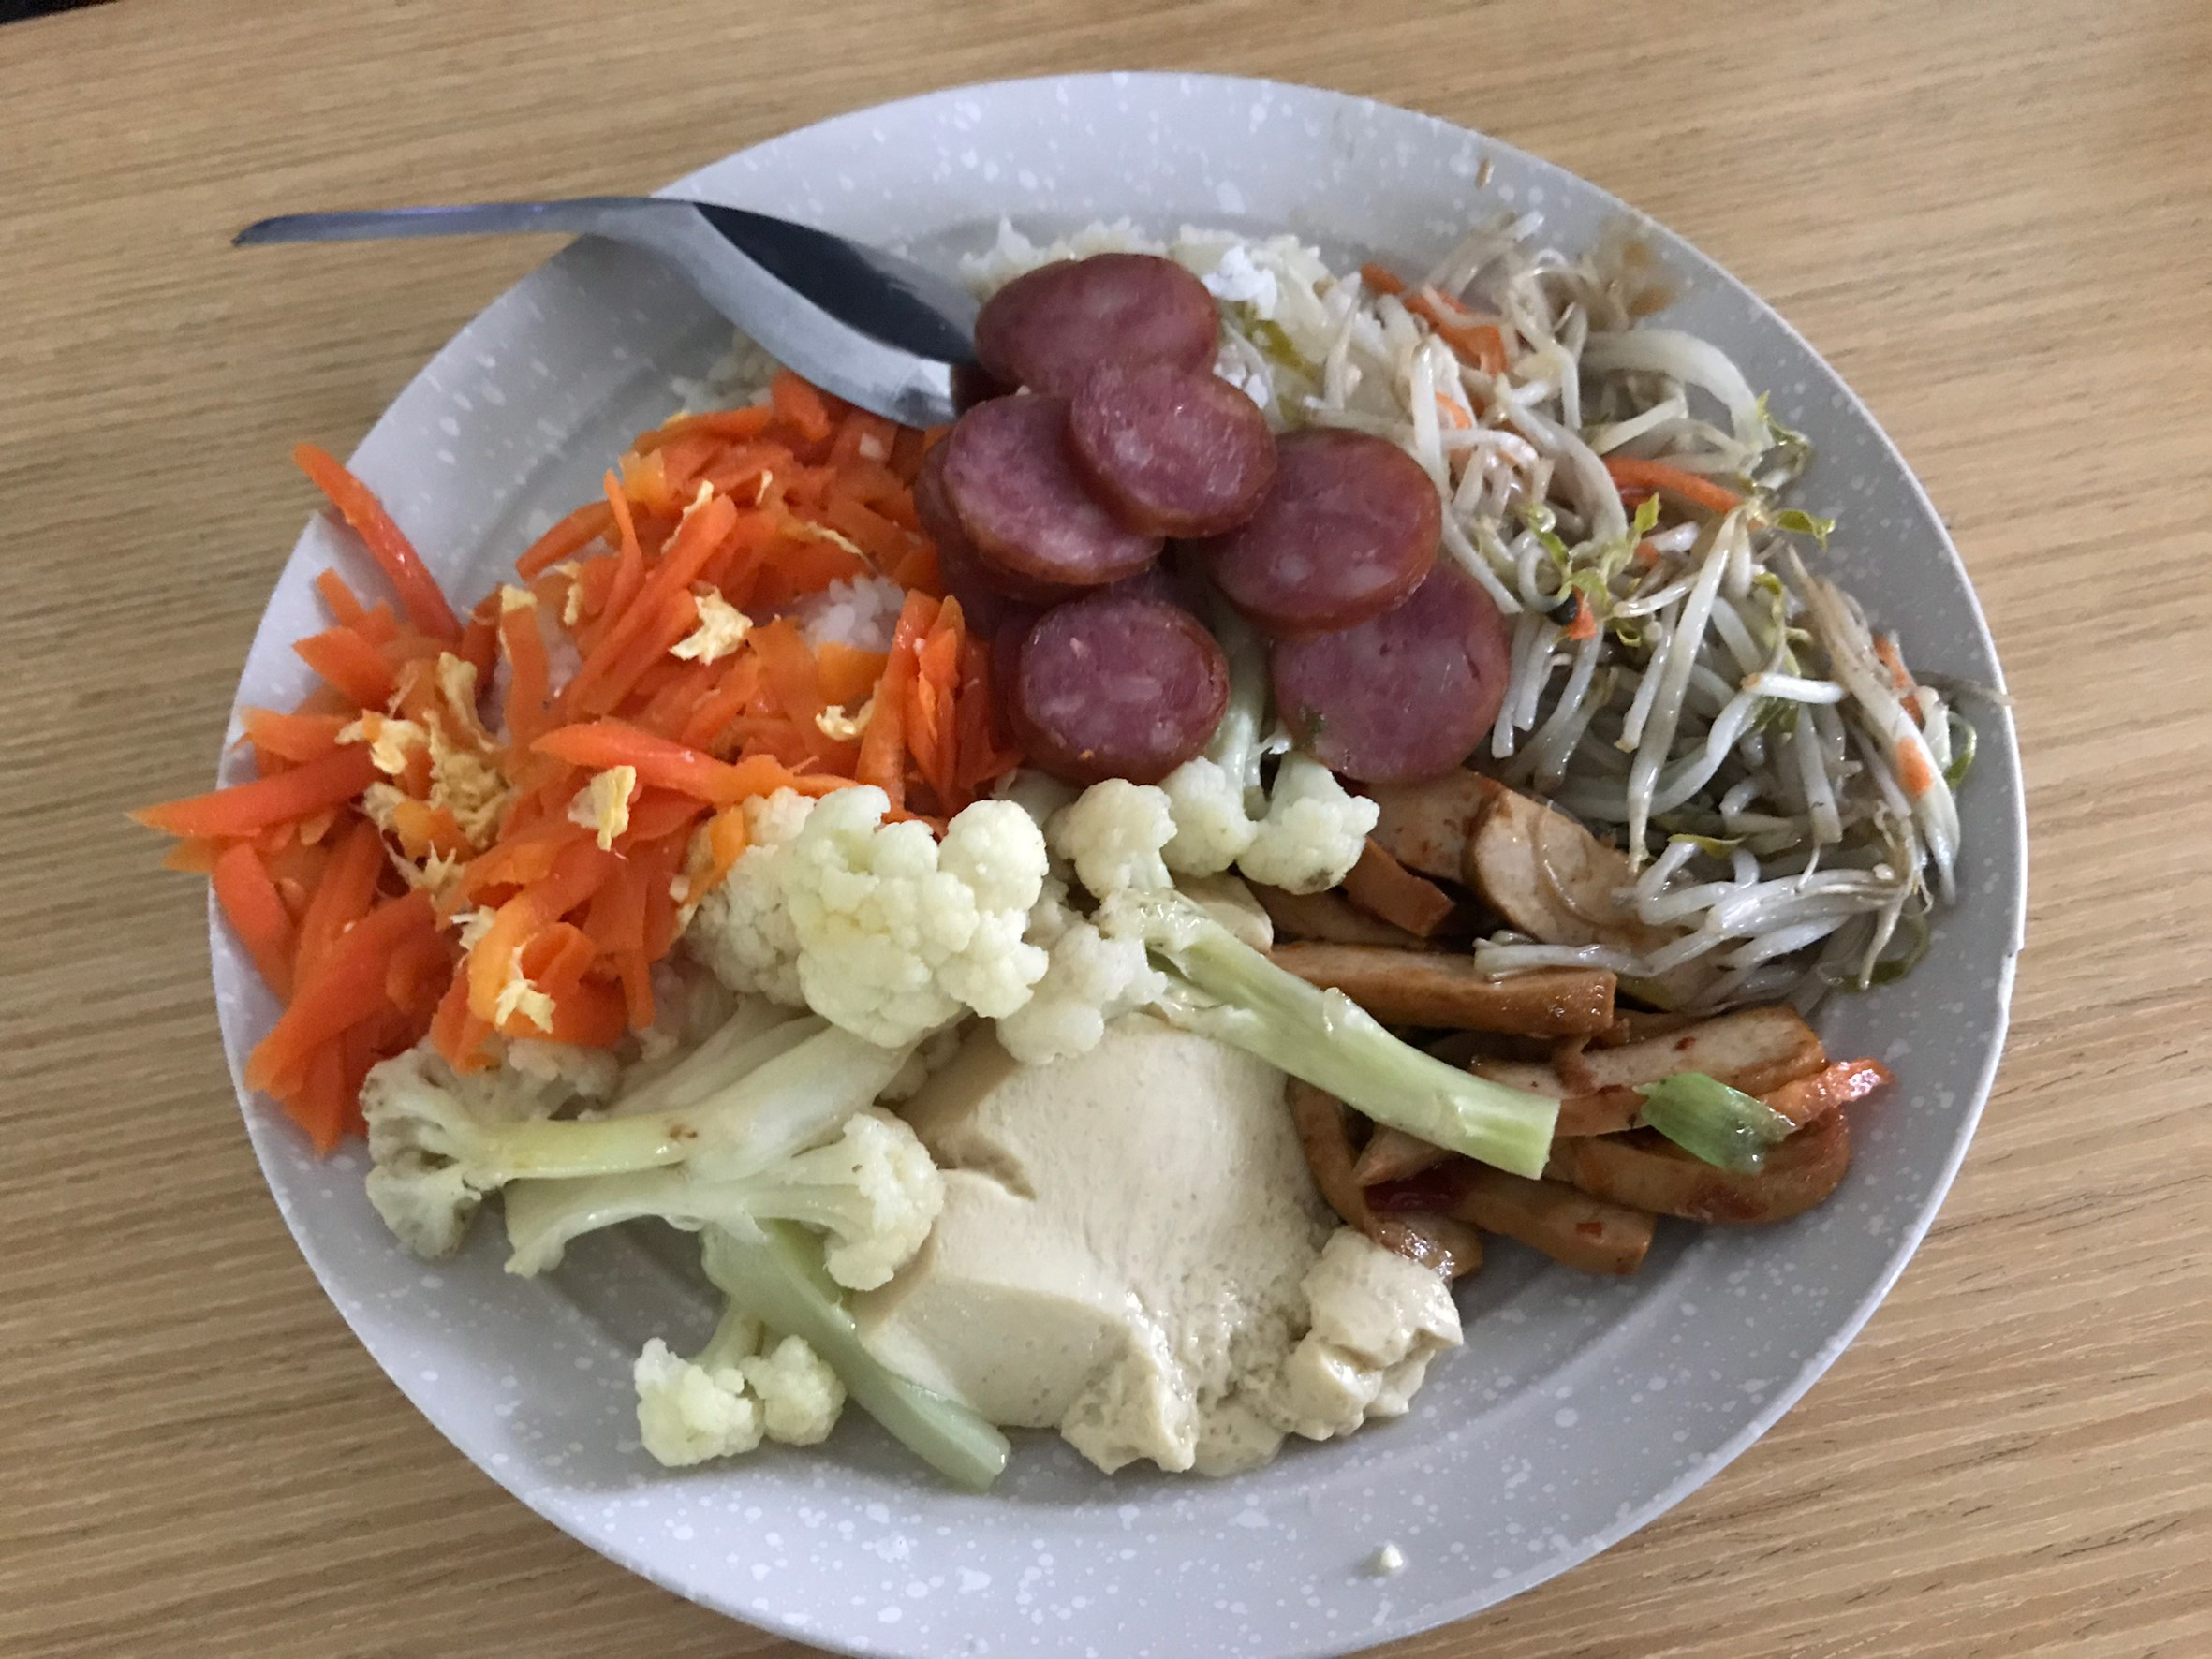carrot_eggs: (152, 385, 936, 1082)
chinese_sausage: (962, 254, 1483, 793)
mung_bean_sprouts: (1501, 223, 1938, 915)
